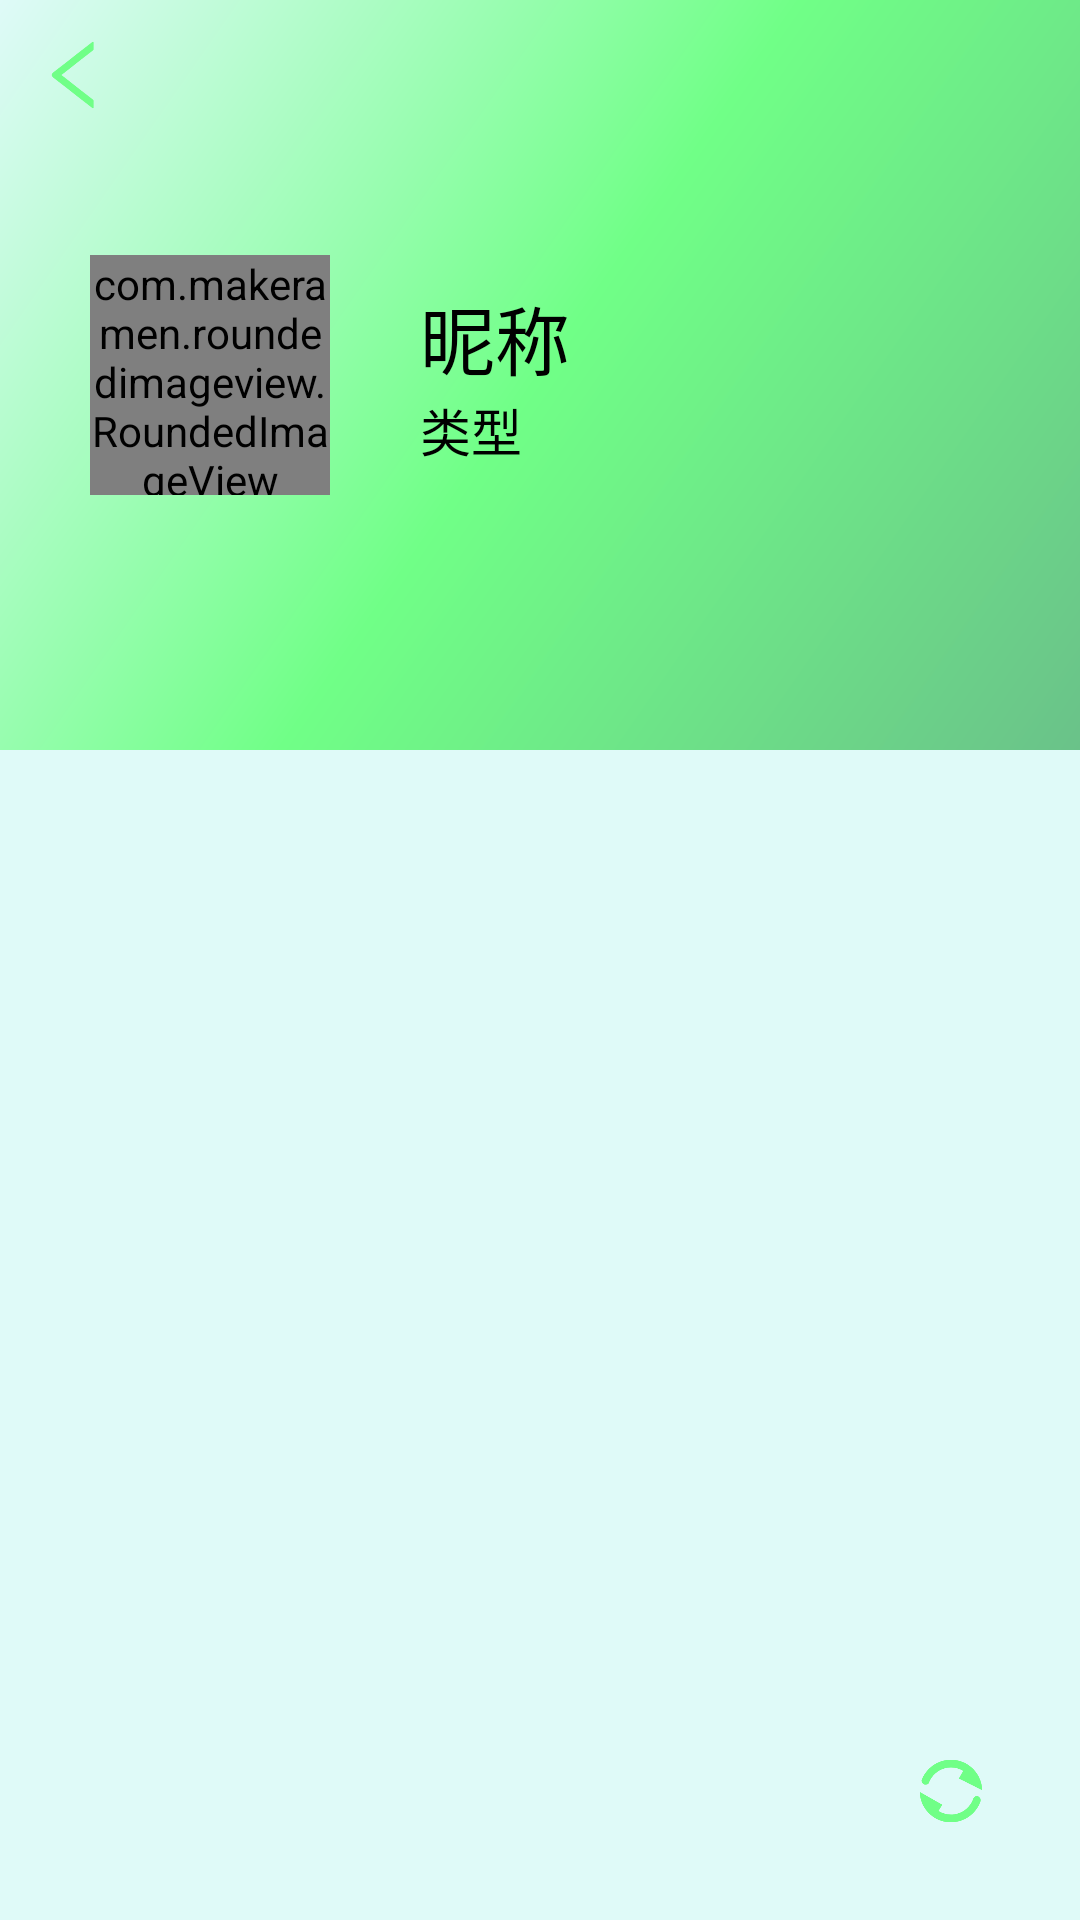

Named icons in this screenshot (1080px x 1920px) and their bounding boxes, {"left": x1, "top": y1, "right": x2, "bottom": y2}:
refresh: {"left": 920, "top": 1760, "right": 982, "bottom": 1822}
